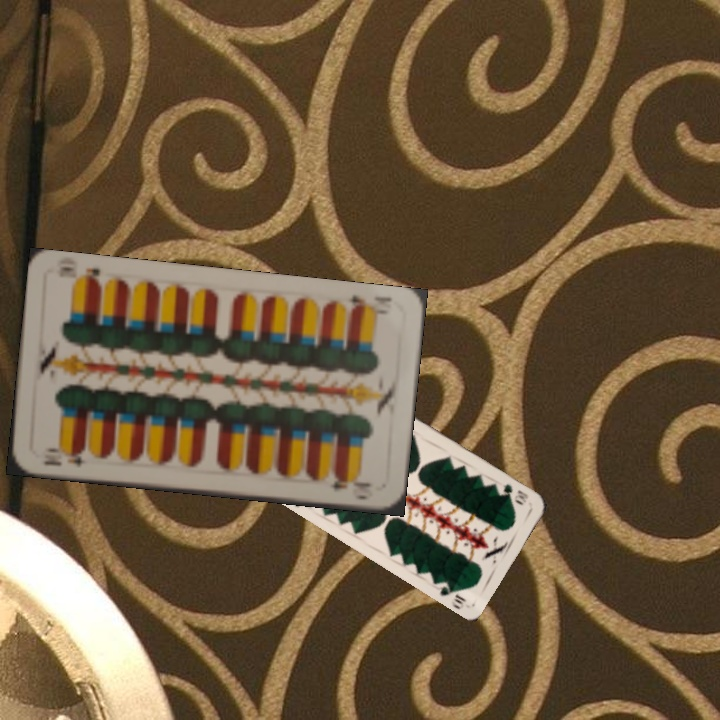E10: (344, 291, 394, 317), (39, 447, 91, 470)
G10: (498, 480, 531, 508)
